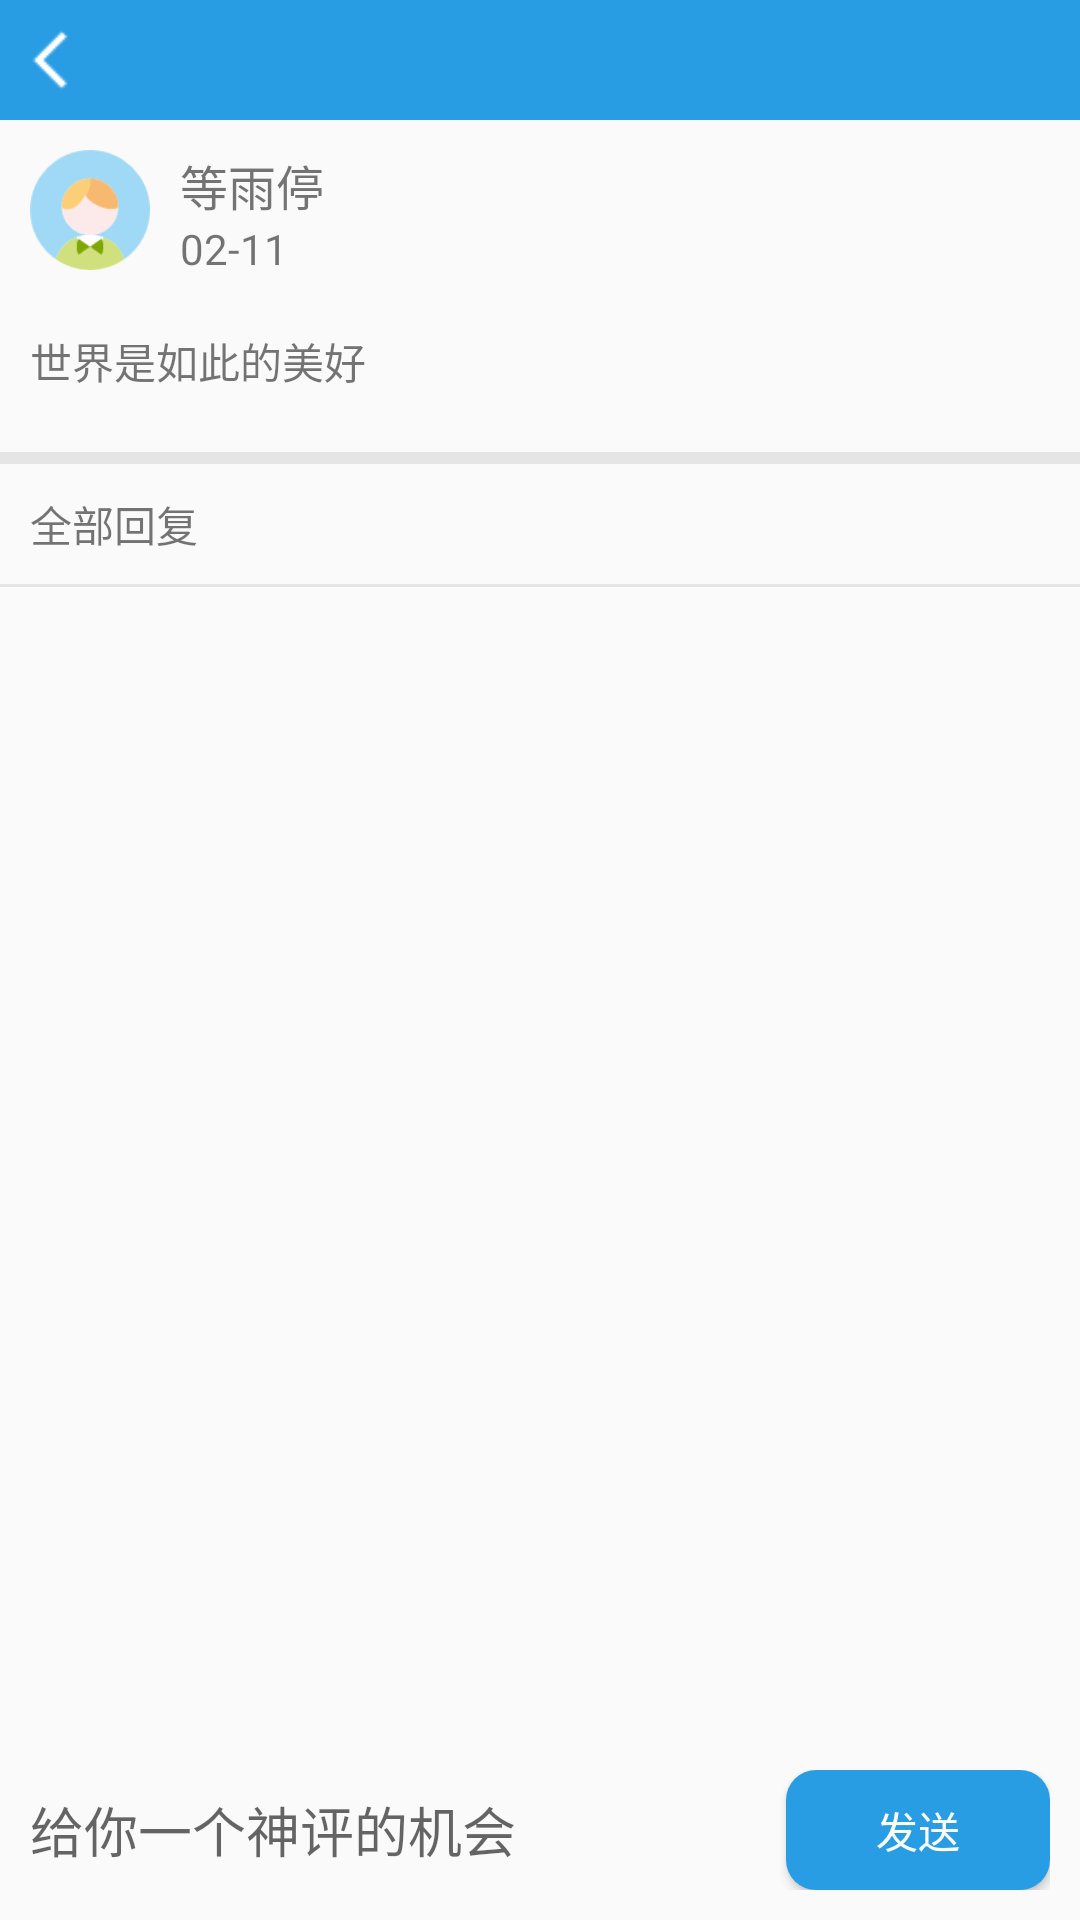

Icon click points for this 1080 × 1920 phone screenshot, format (x,y):
exit: (50,59)
portrait: (90,210)
